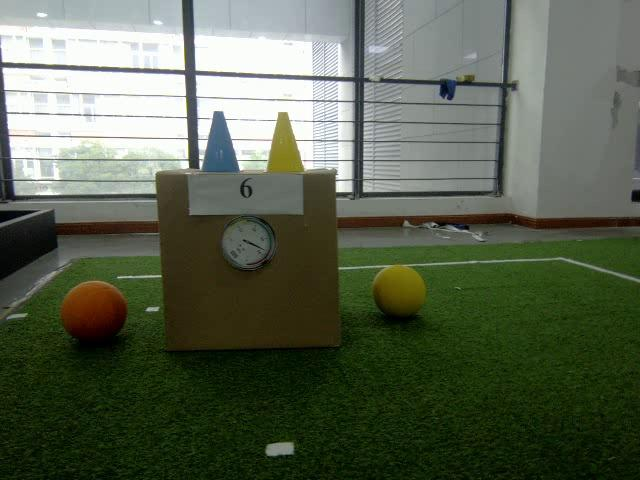6: (238, 176, 255, 200)
Dashboard: (219, 214, 277, 272)
blue_barrel: (194, 110, 244, 174)
orange_ball: (60, 280, 127, 345)
ssi: (228, 250, 238, 261)
yellow_ball: (371, 264, 427, 317)
yellow_barrel: (262, 111, 310, 174)
